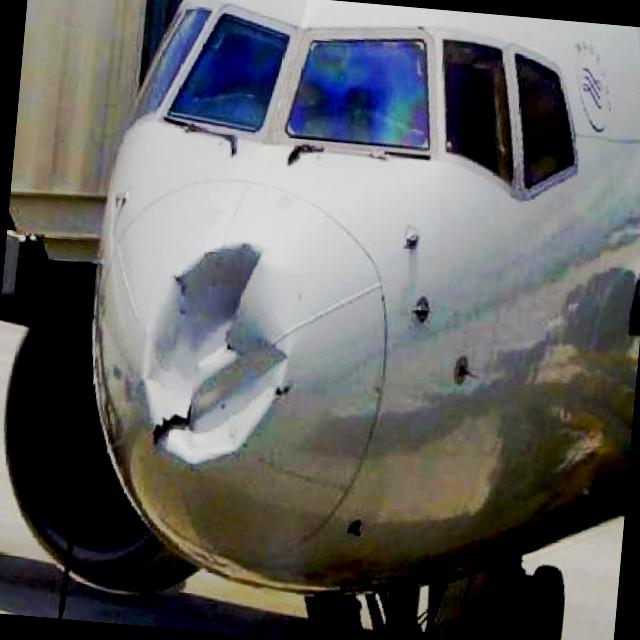dent: (130, 231, 308, 484)
